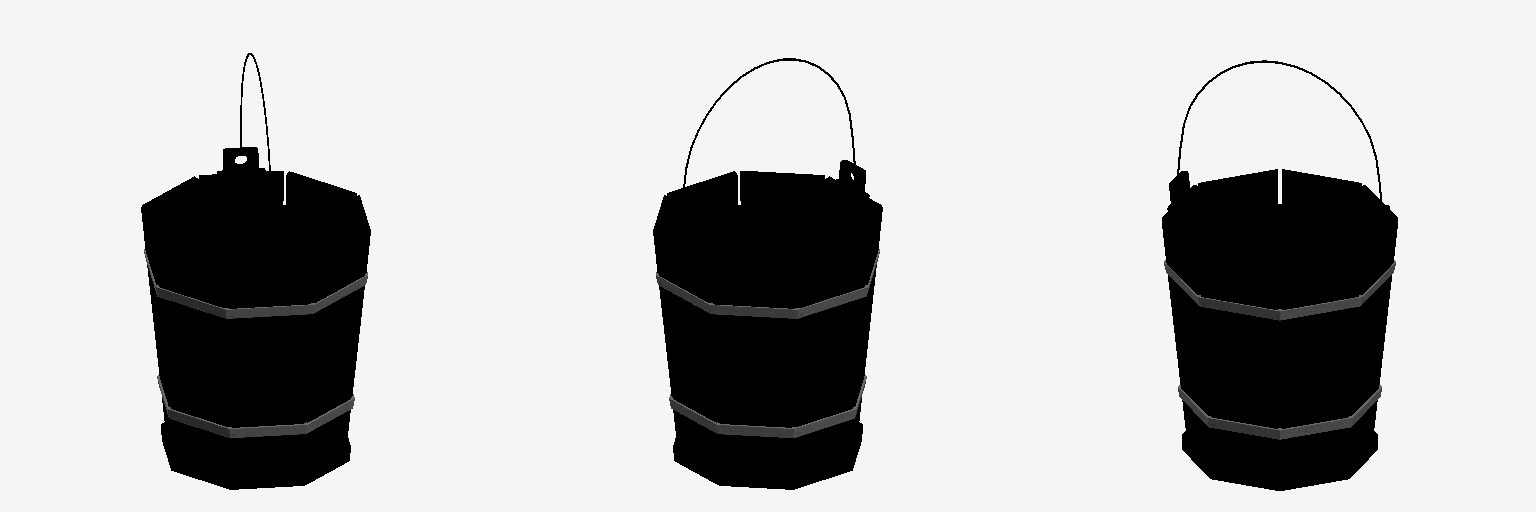
The picture shows the model from 3 angles: view 1: azimuth 30°, elevation 25°; view 2: azimuth 150°, elevation 25°; view 3: azimuth 270°, elevation 25°; orthographic projection.
Visible parts, largest first — view 1: pCube10, pCube11, pCylinder1, pPipe2, pPipe3, pTorus1; view 2: pCube10, pCube11, pCylinder1, pPipe2, pPipe3, pTorus1; view 3: pCube10, pCylinder1, pCube11, pPipe2, pPipe3, pTorus1.
Part boxes in pixels (x1,y1,x2,y2): pCube10: (141,171,370,472); pCube11: (217,147,295,298); pCylinder1: (161,422,350,489); pPipe2: (144,249,367,318); pPipe3: (157,375,354,437); pTorus1: (240,53,271,240); pCube10: (653,171,882,472); pCube11: (666,160,869,287); pCylinder1: (673,422,862,489); pPipe2: (656,249,879,318); pPipe3: (669,375,866,437); pTorus1: (680,58,855,222); pCube10: (1162,169,1397,473); pCylinder1: (1182,431,1377,490); pCube11: (1167,171,1391,276); pPipe2: (1164,260,1395,320); pPipe3: (1178,385,1381,439); pTorus1: (1177,60,1382,211).
Bounding box in the file's own units: 4.16 × 7.53 × 4.16.
Materials: 4 (1 with a texture image).